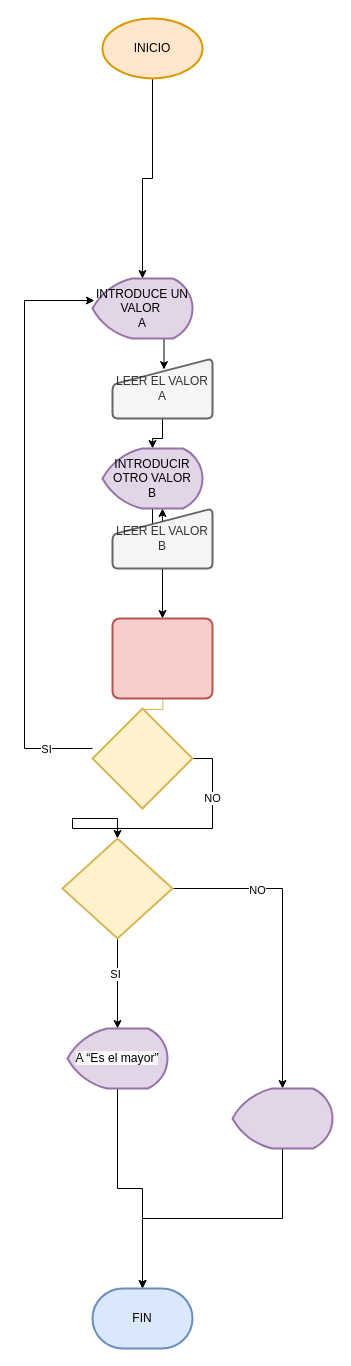
Some shapes in this 351 by 1366 pixel diagram are drawn without their labels. Here are the shapes that lost their labels. From the top down, the centre of each, then its label:
[162,658]: Asignarlos a las variables A=0 B=0
[142,758]: Si A = B
[117,888]: Si A>B
[282,1118]: B "Es mayor"
